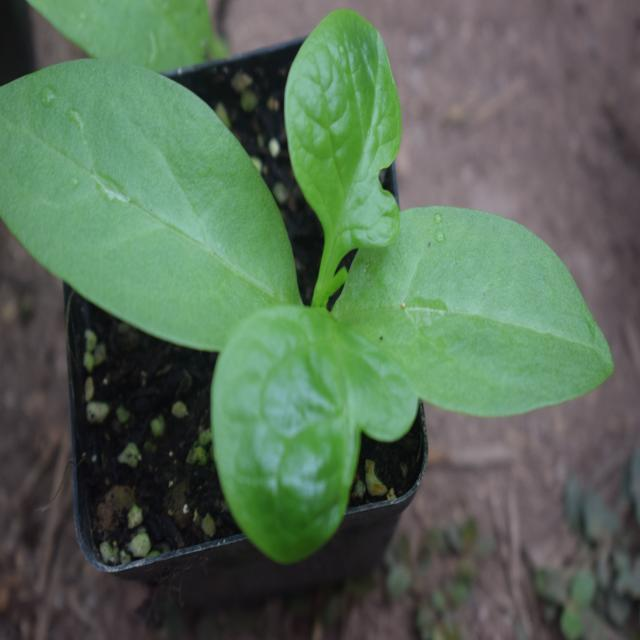Ceylon spinach: (22, 32, 581, 534)
